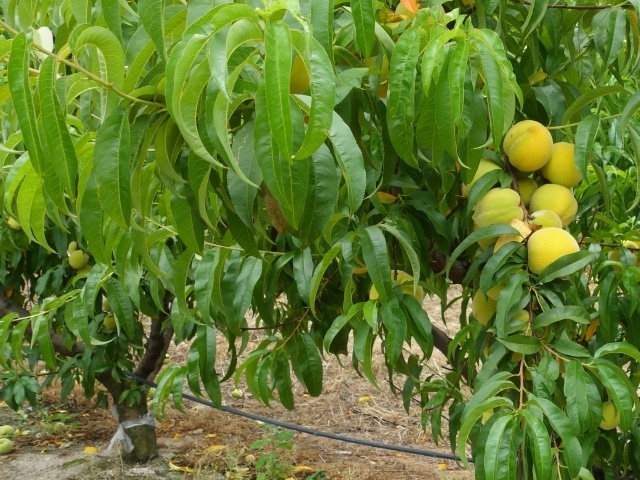peach: (501, 117, 557, 172), (527, 226, 586, 276), (472, 186, 527, 237), (529, 181, 582, 231), (540, 141, 589, 191), (375, 270, 424, 309), (465, 284, 502, 333), (527, 209, 568, 241), (596, 398, 626, 433), (65, 248, 91, 273)
